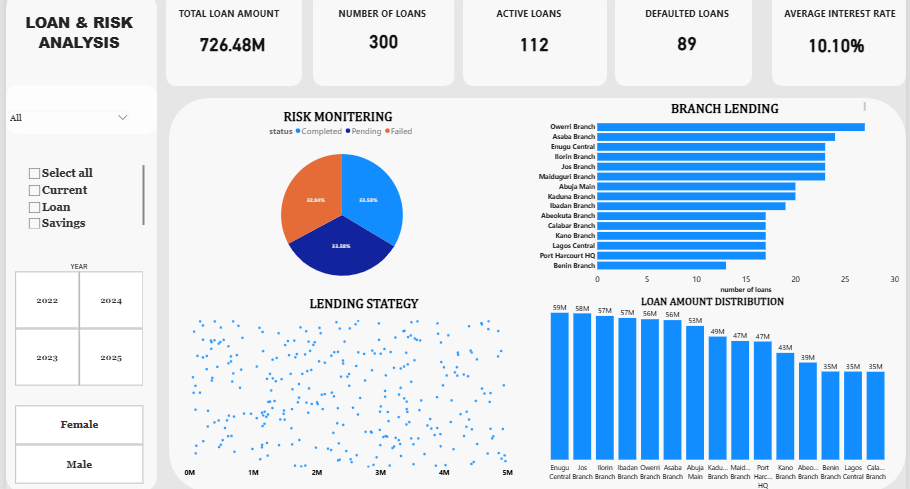

Layout of this report page (visuals, bound fields, positions):
{"tool":"powerbi","page":{"name":"Loan & Risk Analysis","canvas":[3600,2000],"ordinal":3},"visuals":[{"type":"shape","box":[652,424,2948,1576],"z":0},{"type":"shape","box":[0,4,604,1996],"z":1000},{"type":"textbox","box":[15.6,72,552,228],"z":2000},{"type":"group","id":"g1","title":"Group 1","box":[604,0,583.1,376],"z":3000},{"type":"shape","box":[640,0,544,376],"z":4000,"group":"g1"},{"type":"group","id":"g2","title":"Group 1","box":[1229.3,0,564,376],"z":4000},{"type":"shape","box":[1229.3,0,565.9,375.7],"z":4000,"group":"g2"},{"type":"shape","box":[1827.5,0,576,376],"z":4000,"group":"g3"},{"type":"shape","box":[2437.8,0,548,376],"z":4000,"group":"g4"},{"type":"shape","box":[3064.4,0,535.6,376],"z":4000,"group":"g11"},{"type":"group","id":"g3","title":"Group 1","box":[1827.5,0,576,376],"z":5000},{"type":"textbox","box":[1229.3,54.1,565.9,66.9],"z":5000,"group":"g2"},{"type":"textbox","box":[2437.8,54.1,577.6,66.9],"z":5000,"group":"g4"},{"type":"textbox","box":[604,56,576,76],"z":5000,"group":"g1"},{"type":"textbox","box":[1827.5,56,528,68],"z":5000,"group":"g3"},{"type":"group","id":"g4","title":"Group 1","box":[2437.8,0,577.6,376],"z":6000},{"type":"cardVisual","fields":{"Data":["dax.defaulted loans"]},"box":[2438.7,88,576,236],"z":6000,"group":"g4"},{"type":"cardVisual","fields":{"Data":["dax.number of loans"]},"box":[1229.3,89.2,565.9,213.3],"z":6000,"group":"g2"},{"type":"cardVisual","fields":{"Data":["dax.active loans"]},"box":[1827.5,92,568,232],"z":6000,"group":"g3"},{"type":"cardVisual","fields":{"Data":["Sum(loan.loan_amount)"]},"box":[624.9,92.7,562.2,232.7],"z":6000,"group":"g1"},{"type":"cardVisual","title":"AVERAGE INTEREST RATE","fields":{"Data":["dax.average intrest rate"]},"box":[3048,103.2,546.4,213.8],"z":6000,"group":"g11"},{"type":"group","id":"g5","title":"Group 3","box":[2124,1212,1432,784],"z":7000},{"type":"group","id":"g6","title":"Group 5","box":[652,464,1380,748],"z":8000},{"type":"group","id":"g7","title":"Group 6","box":[0,370,604,196],"z":9000},{"type":"group","id":"g8","title":"Group 6","box":[78.5,688.4,479.3,263.3],"z":10000},{"type":"scatterChart","fields":{"Y":["Sum(loan.interest_rate)"],"Category":["loan.loan_id"],"X":["Sum(loan.loan_amount)"]},"box":[708,1301.5,1324,650.5],"z":10000,"group":"g12"},{"type":"group","id":"g9","title":"Group 6","box":[11.6,1078,560,500],"z":11000},{"type":"textbox","box":[969.6,1212,927.6,85.4],"z":12000,"group":"g12"},{"type":"group","id":"g10","title":"Group 6","box":[11.6,1648,560,324],"z":12000},{"type":"group","id":"g11","title":"Group 1","box":[3048,0,552,376],"z":13000},{"type":"columnChart","fields":{"Category":["branch.branch_name"],"Y":["Sum(loan.loan_amount)"]},"box":[2124,1222.3,1432,773.7],"z":13000,"group":"g14"},{"type":"shape","box":[0,370,604,196],"z":13501,"group":"g7"},{"type":"group","id":"g12","title":"Group 4","box":[708,1212,1324,740],"z":14000},{"type":"textbox","box":[3075.8,55.3,519.7,66.4],"z":14001,"group":"g11"},{"type":"group","id":"g13","title":"Group 7","box":[2124,436,1452,776],"z":15000},{"type":"clusteredBarChart","fields":{"Y":["dax.number of loans"],"Category":["branch.branch_name"]},"box":[2124,495,1452,717],"z":15000,"group":"g13"},{"type":"pieChart","fields":{"Category":["transactions.status"],"Y":["dax.number of loans"]},"box":[656.4,525.1,1375.6,686.9],"z":15000,"group":"g6"},{"type":"textbox","box":[2264.7,1212,1125.7,134.9],"z":15500,"group":"g14"},{"type":"textbox","box":[652,464,1351.3,146.8],"z":16000,"group":"g6"},{"type":"group","id":"g14","title":"Group 2","box":[2124,1212,1432,784],"z":16001,"group":"g5"},{"type":"textbox","box":[2314.1,436,1127.9,54.8],"z":17000,"group":"g13"},{"type":"slicer","title":"BRANCH NAME","fields":{"Values":["branch.branch_name"]},"box":[0,460.6,501.9,53.9],"z":17002,"group":"g7"},{"type":"slicer","fields":{"Values":["accounts.account_type"]},"box":[78.5,688.4,479.3,263.3],"z":17002,"group":"g8"},{"type":"slicer","title":"YEAR","fields":{"Values":["Date.year"]},"box":[11.6,1078,560,500],"z":17002,"group":"g9"},{"type":"slicer","fields":{"Values":["customers.gender"]},"box":[11.6,1648,560,324],"z":17002,"group":"g10"}]}

Visuals, with their boxes on the page's 3600x2000 design canvas (x1, y1, x2, y2). These are canvas units, not pixel positions in the 910x489 screenshot, which may show the page scaled, cropped or inside an application window:
shape: 652, 424, 3600, 2000
shape: 0, 4, 604, 2000
textbox: 16, 72, 568, 300
"Group 1" group: 604, 0, 1187, 376
shape: 640, 0, 1184, 376
"Group 1" group: 1229, 0, 1793, 376
shape: 1229, 0, 1795, 376
shape: 1828, 0, 2404, 376
shape: 2438, 0, 2986, 376
shape: 3064, 0, 3600, 376
"Group 1" group: 1828, 0, 2404, 376
textbox: 1229, 54, 1795, 121
textbox: 2438, 54, 3015, 121
textbox: 604, 56, 1180, 132
textbox: 1828, 56, 2356, 124
"Group 1" group: 2438, 0, 3015, 376
cardVisual - dax.defaulted loans: 2439, 88, 3015, 324
cardVisual - dax.number of loans: 1229, 89, 1795, 302
cardVisual - dax.active loans: 1828, 92, 2396, 324
cardVisual - Sum(loan.loan_amount): 625, 93, 1187, 325
"AVERAGE INTEREST RATE" cardVisual: 3048, 103, 3594, 317
"Group 3" group: 2124, 1212, 3556, 1996
"Group 5" group: 652, 464, 2032, 1212
"Group 6" group: 0, 370, 604, 566
"Group 6" group: 78, 688, 558, 952
scatterChart - Sum(loan.interest_rate) x loan.loan_id: 708, 1302, 2032, 1952
"Group 6" group: 12, 1078, 572, 1578
textbox: 970, 1212, 1897, 1297
"Group 6" group: 12, 1648, 572, 1972
"Group 1" group: 3048, 0, 3600, 376
columnChart - branch.branch_name x Sum(loan.loan_amount): 2124, 1222, 3556, 1996
shape: 0, 370, 604, 566
"Group 4" group: 708, 1212, 2032, 1952
textbox: 3076, 55, 3596, 122
"Group 7" group: 2124, 436, 3576, 1212
clusteredBarChart - dax.number of loans x branch.branch_name: 2124, 495, 3576, 1212
pieChart - transactions.status x dax.number of loans: 656, 525, 2032, 1212
textbox: 2265, 1212, 3390, 1347
textbox: 652, 464, 2003, 611
"Group 2" group: 2124, 1212, 3556, 1996
textbox: 2314, 436, 3442, 491
"BRANCH NAME" slicer: 0, 461, 502, 514
slicer - accounts.account_type: 78, 688, 558, 952
"YEAR" slicer: 12, 1078, 572, 1578
slicer - customers.gender: 12, 1648, 572, 1972
